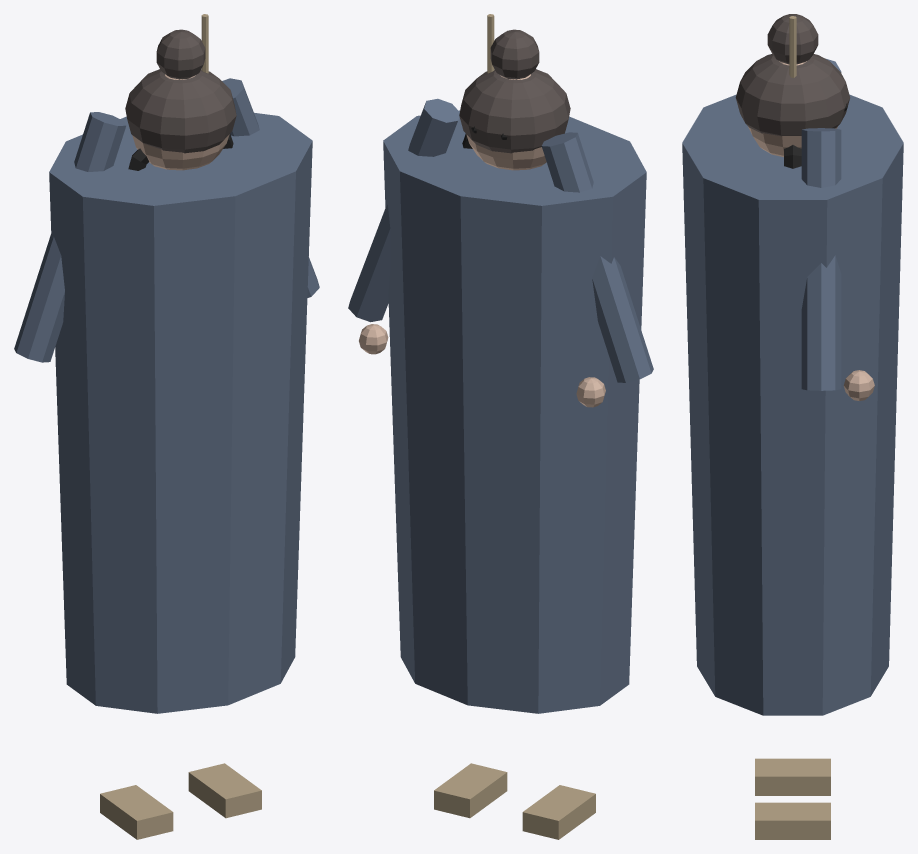
The model's file is CHR_Villager_Robe_A01.glb.
3 renders of one model, left to right at view 1: azimuth 30°, elevation 25°; view 2: azimuth 150°, elevation 25°; view 3: azimuth 270°, elevation 25°, orthographic.
Parts seen in each view (by area): view 1: villager; view 2: villager; view 3: villager.
Boxes of the visible parts, box(x1,y1,x2,y2) form: villager: box(14, 14, 319, 839); villager: box(348, 14, 653, 839); villager: box(682, 14, 903, 839).
Bounding box in the file's own units: 0.7475 × 1.87 × 0.468.
